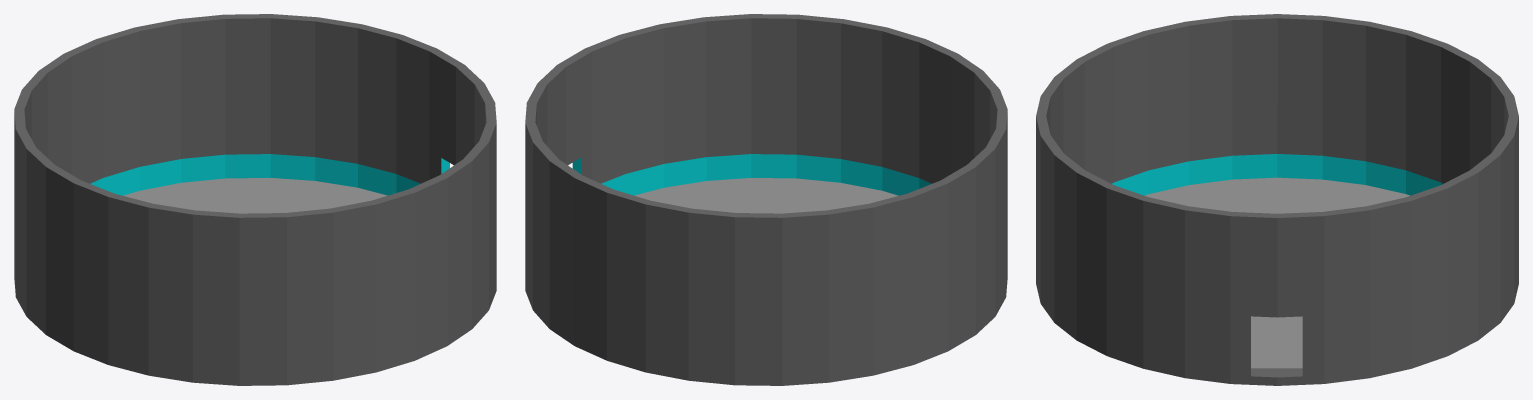
The model's file is Bunker2.fbx.
The picture shows the model from 3 angles, left to right: view 1: azimuth 30°, elevation 25°; view 2: azimuth 150°, elevation 25°; view 3: azimuth 270°, elevation 25°; orthographic projection.
Visible parts, largest first — view 1: Cylinder.001; view 2: Cylinder.001; view 3: Cylinder.001.
Boxes of the visible parts, x1,y1,x2,y2 form: Cylinder.001: [14, 14, 496, 385]; Cylinder.001: [525, 14, 1007, 385]; Cylinder.001: [1036, 14, 1518, 385].
Size of the model in its own units: 3400 by 1304 by 3400.
